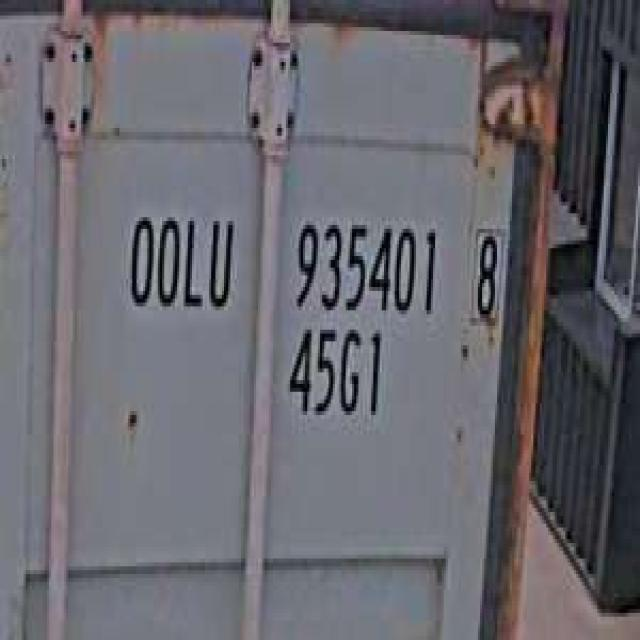dv: (465, 213, 506, 330)
owner: (122, 194, 239, 326)
serial: (286, 202, 441, 322)
size: (282, 318, 388, 427)
